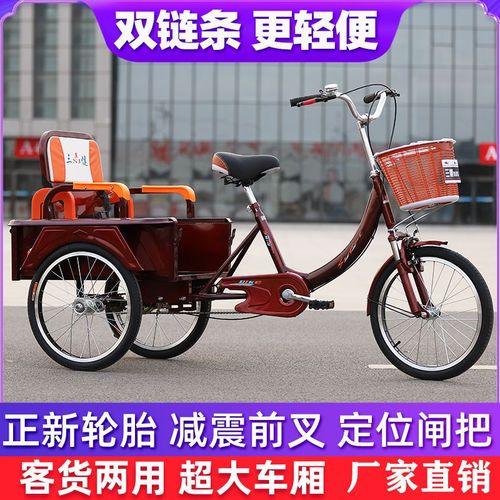empty: (11, 81, 500, 391)
